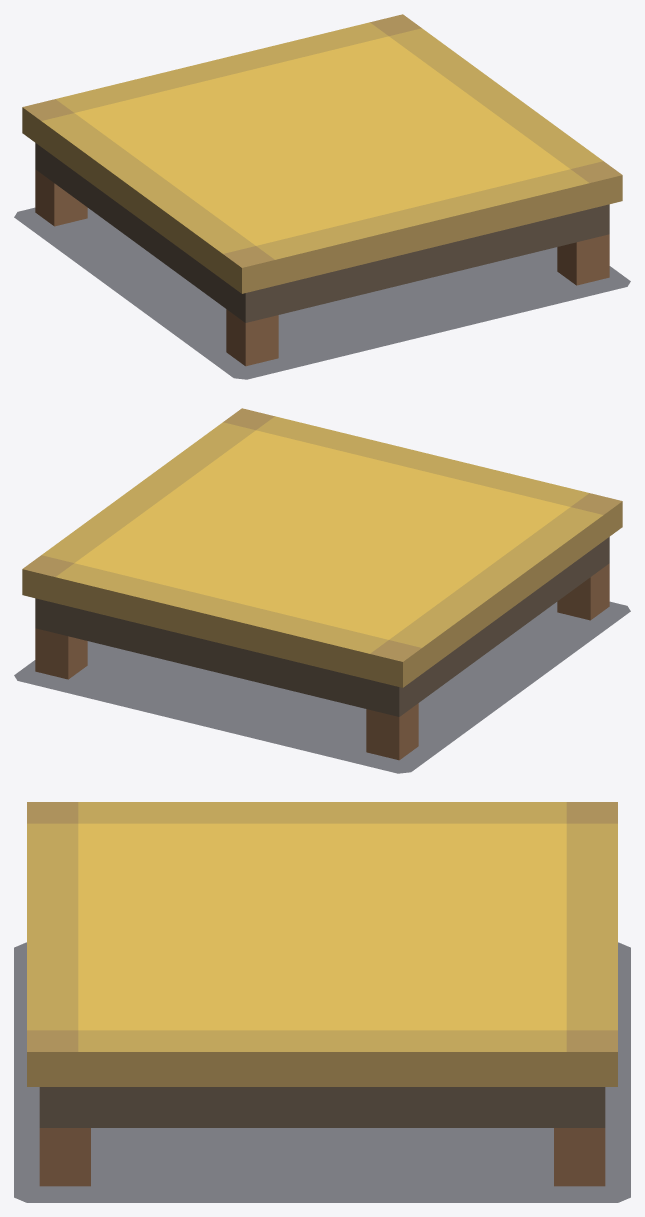
The model's file is modelo.obj.
The picture shows the model from 3 angles, top to bottom: view 1: azimuth 30°, elevation 25°; view 2: azimuth 150°, elevation 25°; view 3: azimuth 270°, elevation 25°; orthographic projection. The views are drawn at different scales.
Parts seen in each view (by area): view 1: polygon1, polygon0; view 2: polygon1, polygon0; view 3: polygon1, polygon0.
Boxes of the visible parts, <box> form: polygon1: <box>22,14,622,366</box>; polygon0: <box>14,207,630,379</box>; polygon1: <box>22,408,622,760</box>; polygon0: <box>14,601,630,773</box>; polygon1: <box>27,802,617,1186</box>; polygon0: <box>14,942,630,1202</box>.
Size of the model in its own units: 48 by 12.5 by 48.
Materials: 2 (2 with a texture image).
